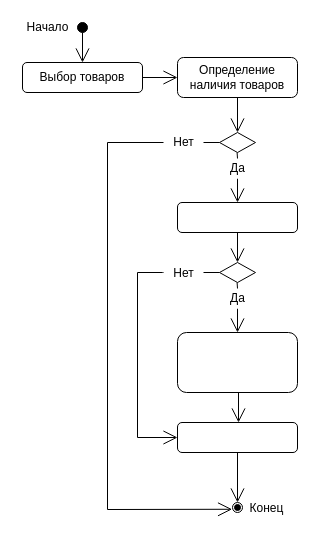
Some shapes in this 315 by 541 pixel diagram are drawn without their labels. Here are the shapes that lost their labels. From the top down, the centre of each, then its label:
[237,217]: Ввод купона
[237,362]: Расчёт финальной цены
[237,437]: Создание заказа
